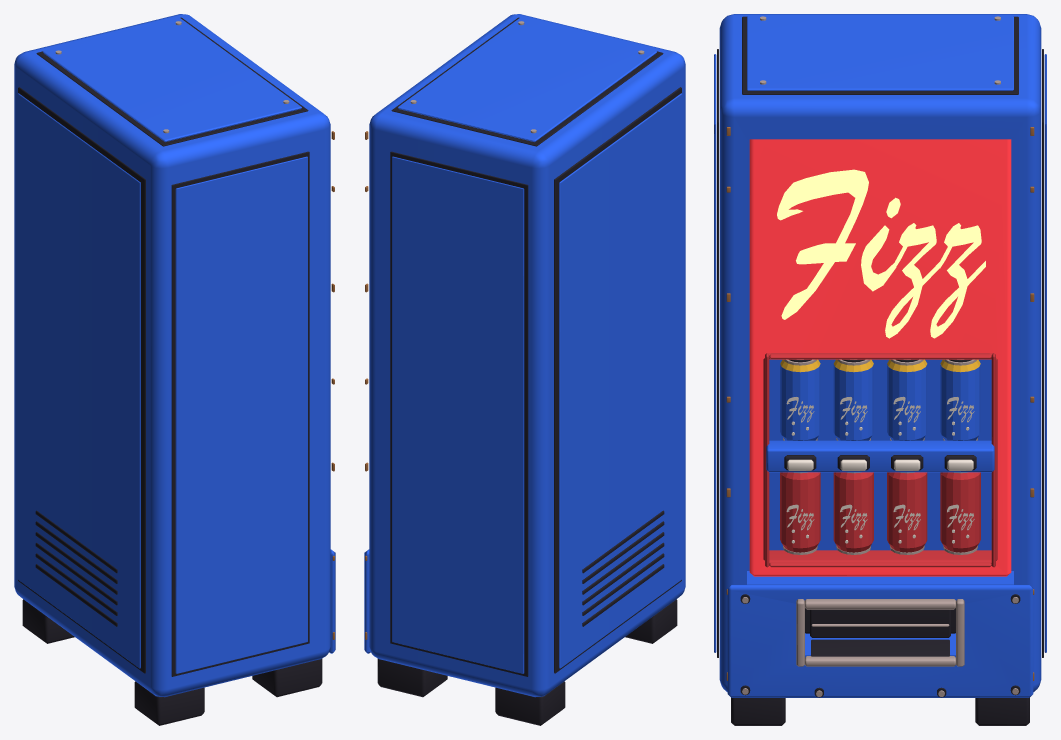
The model's file is prop.vending-machine.glb.
3 renders of one model, left to right at view 1: azimuth 30°, elevation 25°; view 2: azimuth 150°, elevation 25°; view 3: azimuth 270°, elevation 25°, orthographic. The views are drawn at different scales.
Bounding box in the file's own units: 0.7848 × 2.17 × 1.03.
